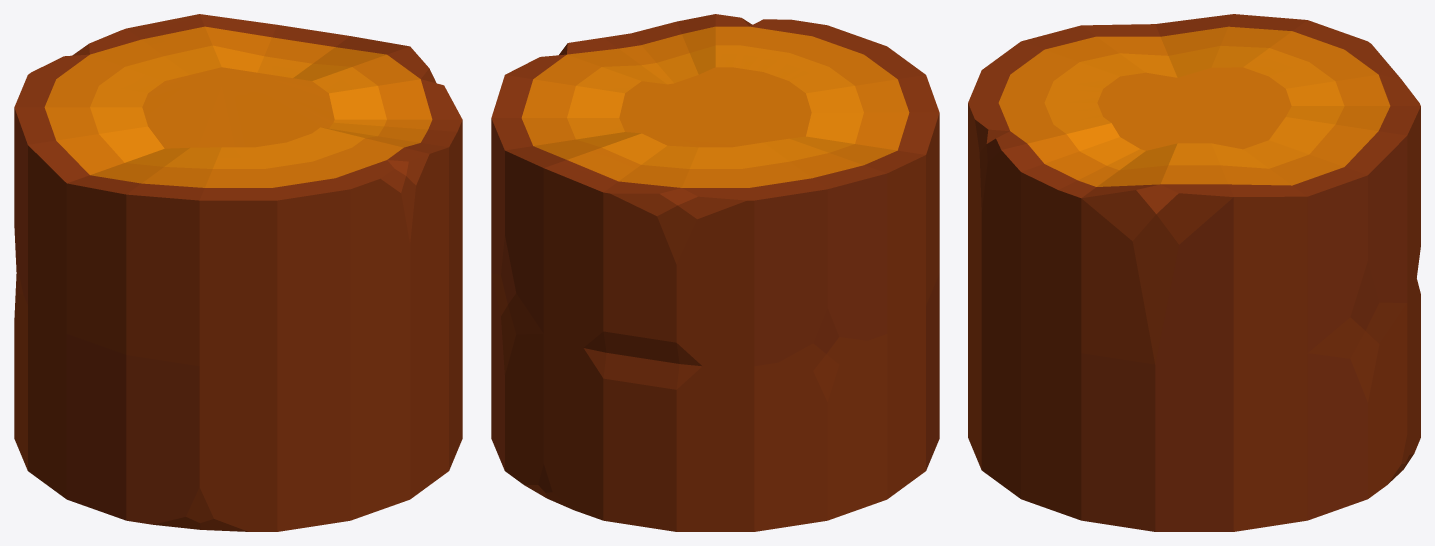
The model's file is Tree log_6.fbx.
3 views of the same model, side by side, from view 1: azimuth 30°, elevation 25°; view 2: azimuth 150°, elevation 25°; view 3: azimuth 270°, elevation 25° (orthographic).
Parts seen in each view (by area): view 1: Circle.005; view 2: Circle.005; view 3: Circle.005.
Part boxes in pixels (x1,y1,x2,y2): Circle.005: (14, 14, 462, 531); Circle.005: (491, 14, 939, 531); Circle.005: (968, 14, 1420, 531).
Bounding box in the file's own units: 23.2 × 19.22 × 23.56.
